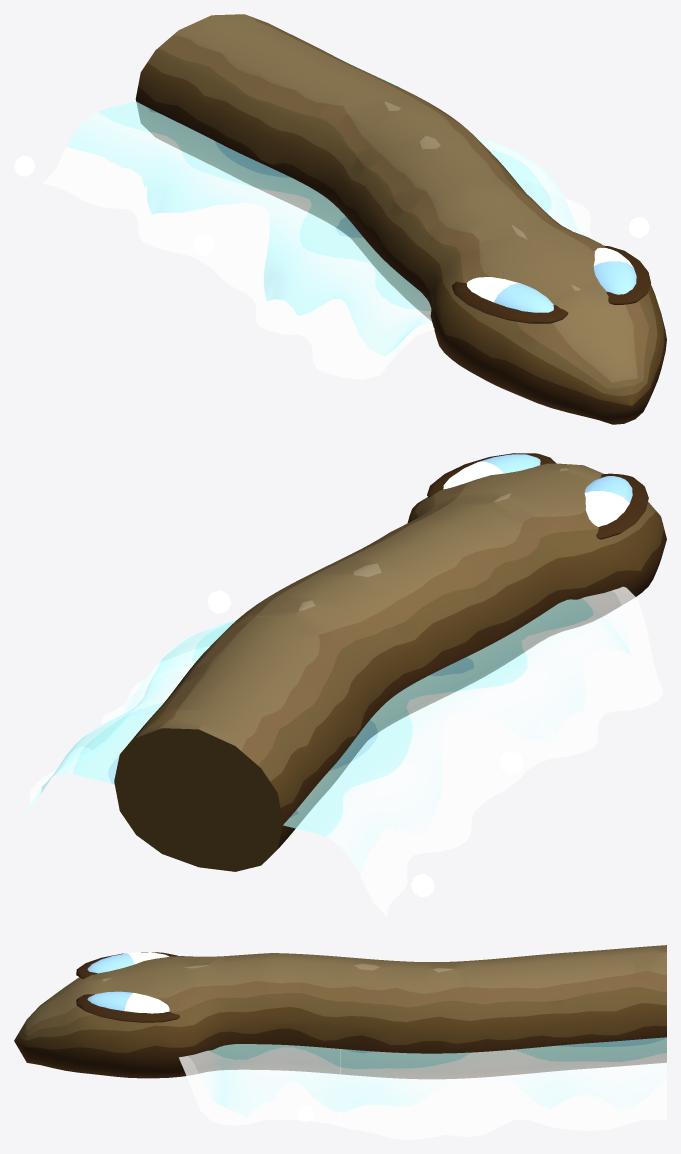
The model's file is coral_eel_b.glb.
The picture shows the model from 3 angles, top to bottom: view 1: azimuth 30°, elevation 25°; view 2: azimuth 150°, elevation 25°; view 3: azimuth 270°, elevation 25°; orthographic projection. The views are drawn at different scales.
Parts seen in each view (by area): view 1: coral_eel_b; view 2: coral_eel_b; view 3: coral_eel_b.
Boxes of the visible parts, x1,y1,x2,y2 form: coral_eel_b: [14, 14, 666, 424]; coral_eel_b: [14, 453, 666, 916]; coral_eel_b: [14, 945, 666, 1139].
Bounding box in the file's own units: 16.73 × 4.87 × 28.
